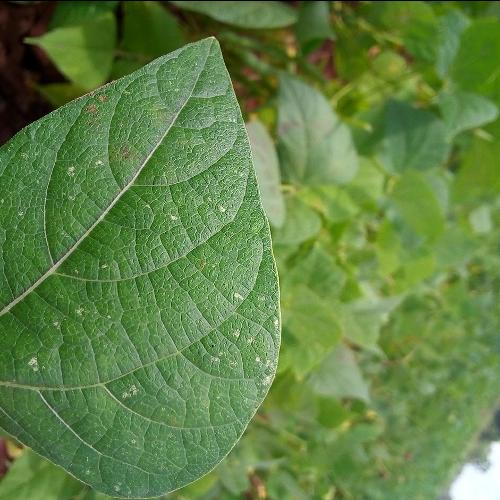embun tepung: (16, 140, 112, 220), (209, 274, 267, 395), (23, 296, 86, 393), (157, 178, 241, 226), (113, 375, 149, 401)
hawar: (78, 81, 114, 126)
mozaik: (103, 428, 150, 495)
